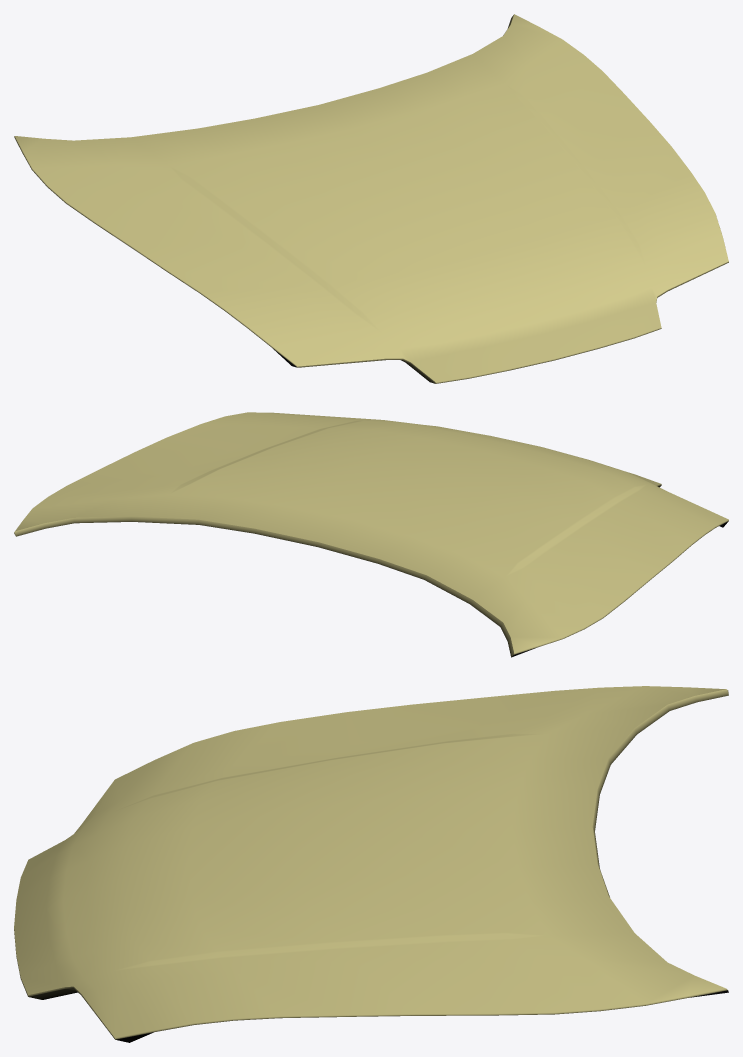
Rendered from Supra_Bonnet_01_Duco.fbx.
3 renders of one model, top to bottom at view 1: azimuth 30°, elevation 25°; view 2: azimuth 150°, elevation 25°; view 3: azimuth 270°, elevation 25°, orthographic. The views are drawn at different scales.
Parts seen in each view (by area): view 1: Supra_Bonnet_01_Duco; view 2: Supra_Bonnet_01_Duco; view 3: Supra_Bonnet_01_Duco.
Part boxes in pixels (x1=…): Supra_Bonnet_01_Duco: x1=14, y1=14, x2=728, y2=383; Supra_Bonnet_01_Duco: x1=14, y1=412, x2=728, y2=657; Supra_Bonnet_01_Duco: x1=14, y1=686, x2=728, y2=1042.
Size of the model in its own units: 157 by 24.03 by 147.
